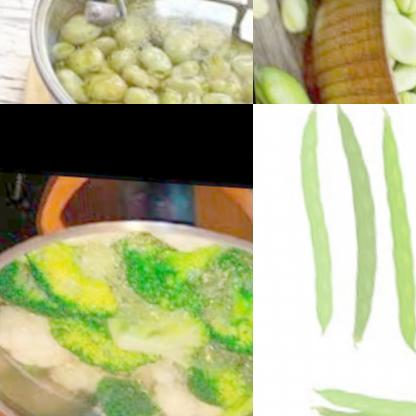beans: (282, 104, 416, 364), (75, 26, 253, 104), (253, 65, 412, 104), (378, 0, 416, 104), (278, 0, 319, 42), (253, 0, 271, 52)
broccoli: (13, 241, 253, 416)
cayliflower: (136, 360, 215, 416), (0, 307, 65, 375), (28, 358, 100, 395)
